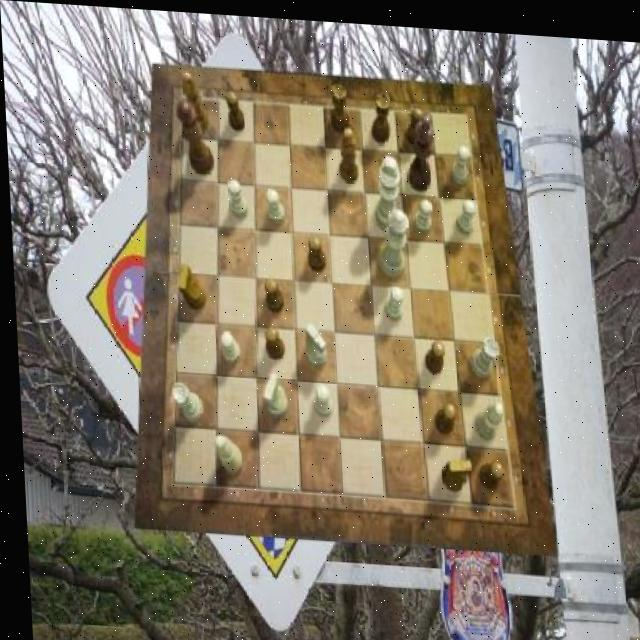bishop: (181, 69, 208, 129), (336, 122, 357, 179)
black-bishop: (404, 105, 434, 187)
black-king: (174, 261, 203, 308), (437, 452, 468, 488)
black-knight: (473, 453, 500, 484), (428, 395, 452, 429), (404, 101, 423, 142), (420, 334, 442, 369), (224, 89, 243, 129), (261, 322, 281, 357), (262, 275, 281, 310), (304, 232, 322, 268)
black-pawn: (174, 98, 213, 174)
black-queen: (369, 89, 391, 139), (328, 80, 349, 130)
black-rook: (470, 395, 501, 436), (209, 432, 237, 471)
white-bishop: (370, 148, 401, 227)
white-king: (259, 370, 284, 413), (301, 320, 323, 363)
white-knight: (449, 139, 469, 180), (380, 281, 401, 318), (453, 193, 474, 230), (410, 193, 431, 229), (226, 178, 245, 217), (265, 186, 284, 221), (217, 329, 237, 362), (310, 380, 328, 415)
white-pawn: (374, 202, 409, 273)
white-queen: (167, 380, 198, 422), (466, 331, 497, 373)
